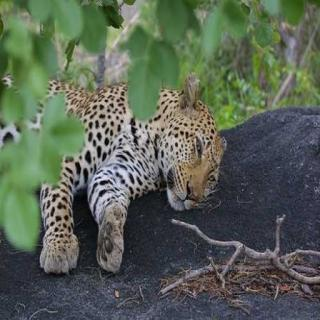Leopard: (52, 46, 251, 278)
